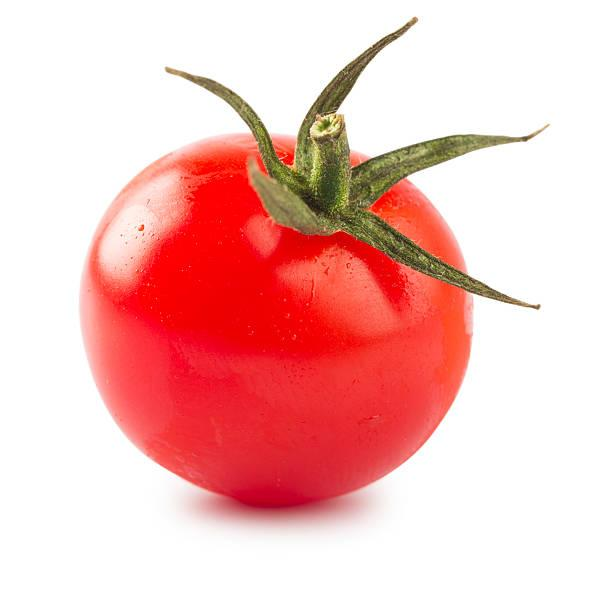Tomato: (69, 116, 480, 500)
